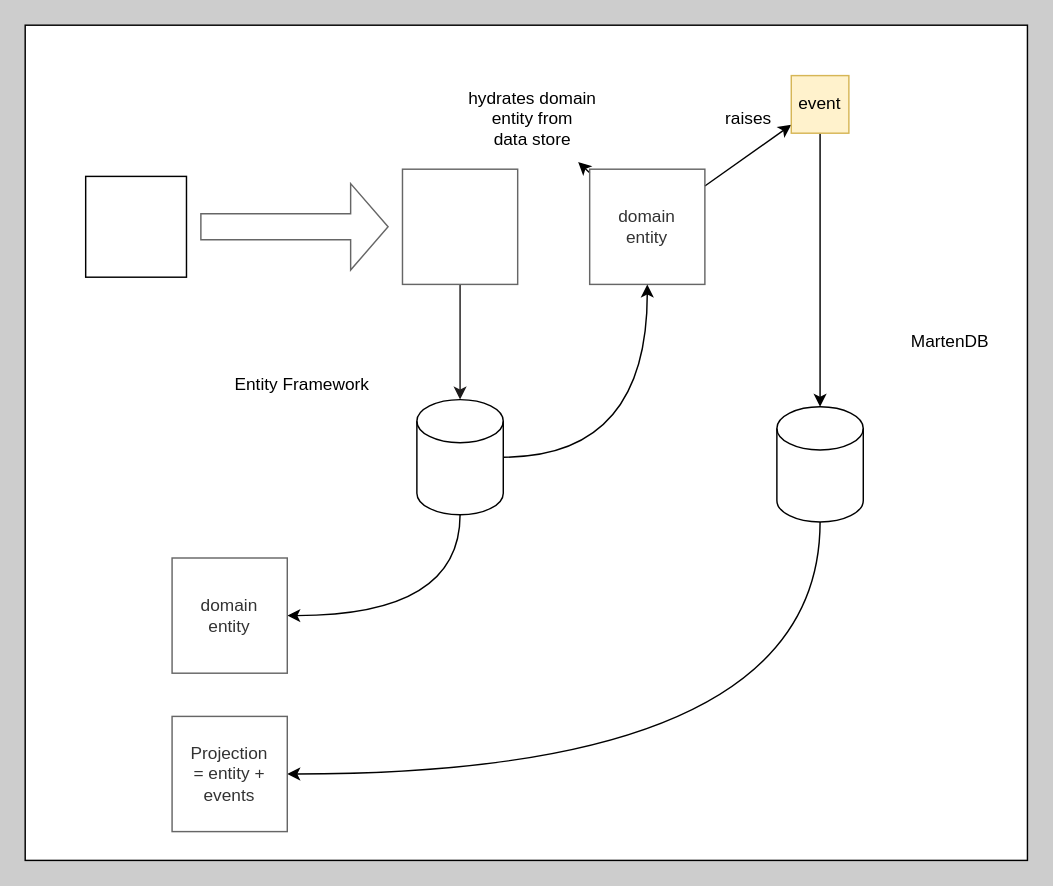
Image size: 1053x886. Some labels were removed from this diagram. Each missing label, with the box of its shape:
command: (84, 175, 186, 277)
handler: (401, 168, 518, 284)
